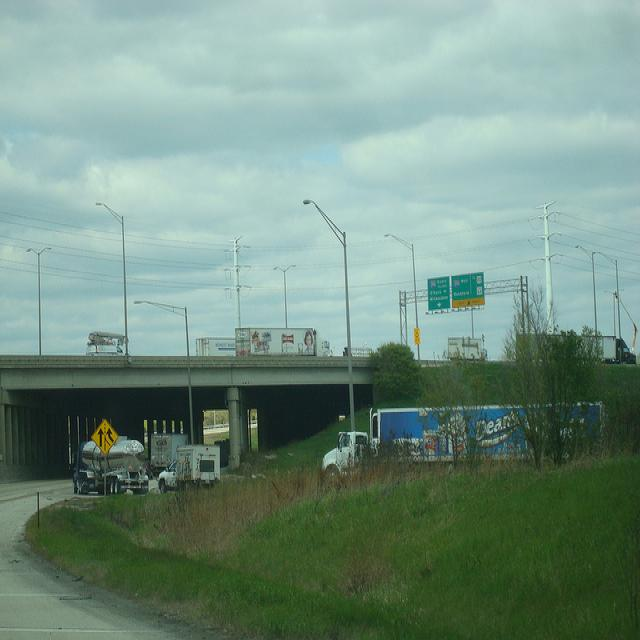Vehicle: (320, 402, 610, 484), (73, 417, 150, 497), (150, 436, 224, 493), (236, 328, 331, 357), (602, 334, 636, 364), (151, 434, 187, 461), (196, 339, 237, 356)
